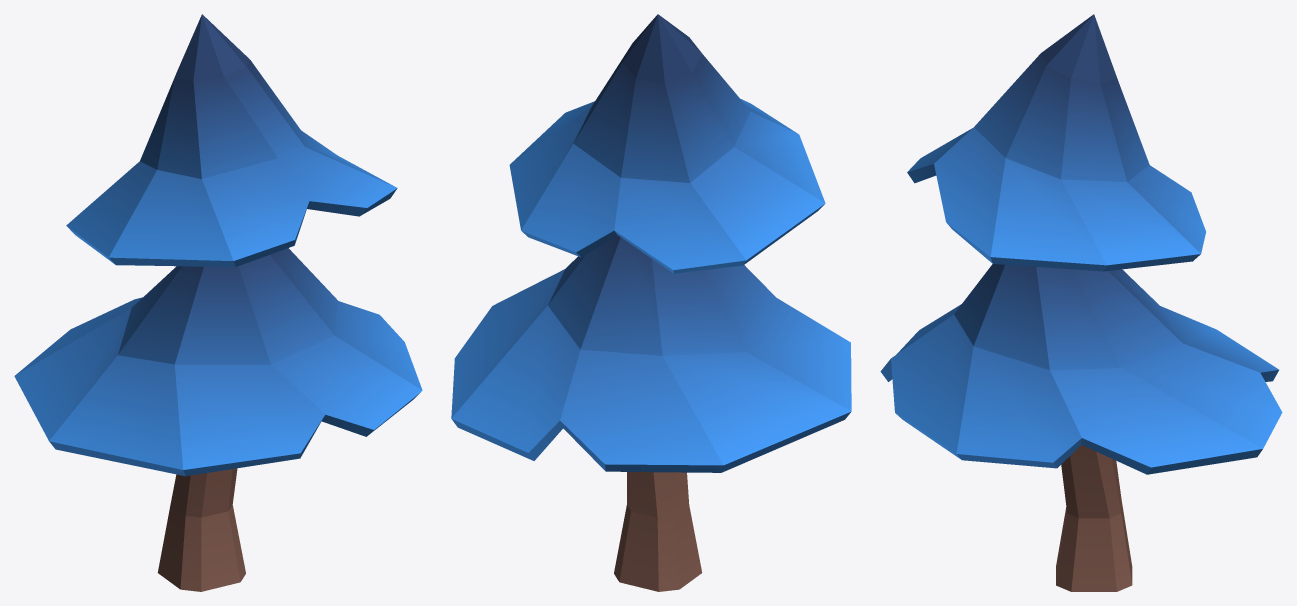
File: BluePine7.fbx
3 renders of one model, left to right at view 1: azimuth 30°, elevation 25°; view 2: azimuth 150°, elevation 25°; view 3: azimuth 270°, elevation 25°, orthographic.
Visible parts, largest first — view 1: BluePine7; view 2: BluePine7; view 3: BluePine7.
Part boxes in pixels (bbox=[...]): BluePine7: bbox=[14, 14, 422, 591]; BluePine7: bbox=[451, 14, 851, 591]; BluePine7: bbox=[880, 14, 1282, 591].
Bounding box in the file's own units: 308 × 463 × 300.
